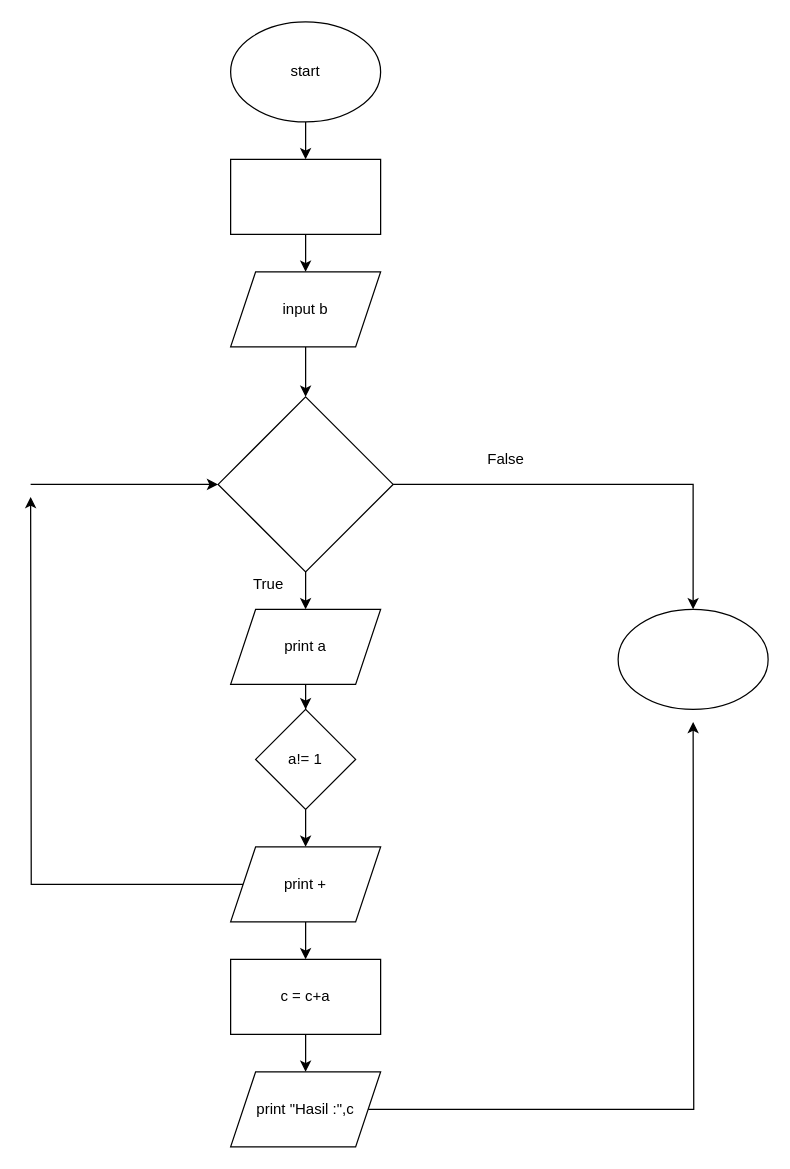
This 790x1169 diagram has some shape labels left out. The centre of each missing label's shape, as x and y in pixels:
"a=b a>0" belongs at (x=305, y=484).
"end" belongs at (x=692, y=658).
"int a,b,c = 0" belongs at (x=305, y=196).
